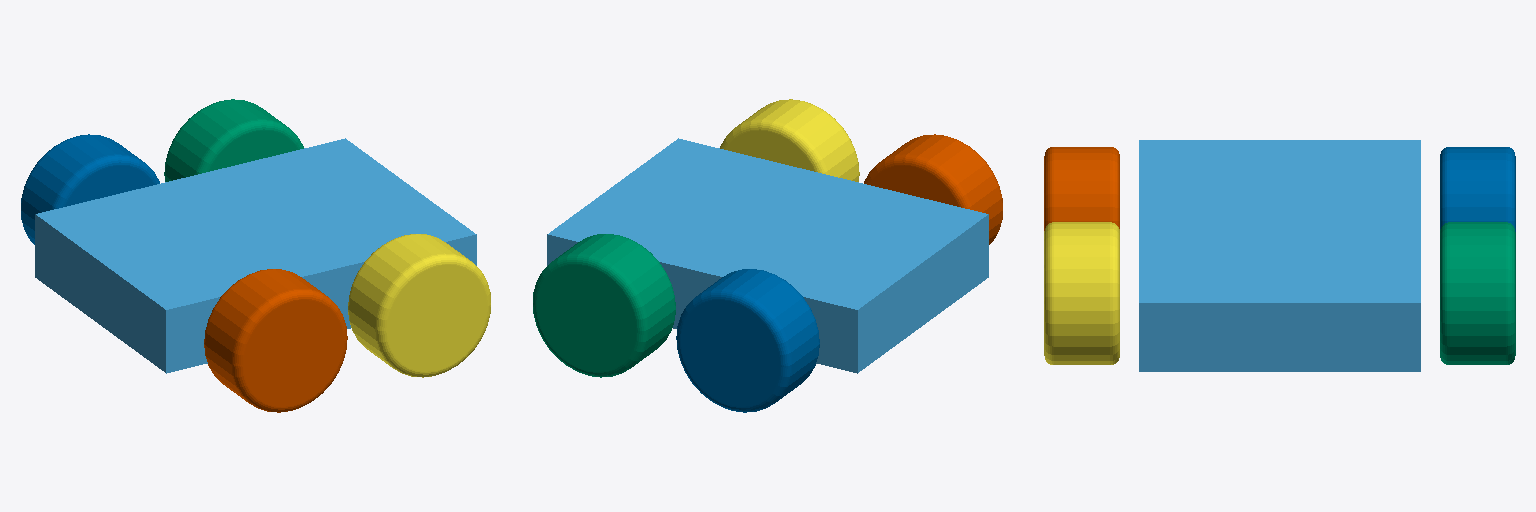
robot.urdf — cross_robot:
<?xml version="1.0" ?>
<!-- =================================================================================== -->
<!-- |    This document was autogenerated by xacro from single_rrbot.urdf.xacro        | -->
<!-- |    CROSS ROBOT URDF                               | -->
<!-- =================================================================================== -->
<robot name="cross_robot" xmlns:xacro="http://www.ros.org/wiki/xacro">

  <!-- Build your comprehensive robot -->
  <link name="base_footprint"/>
  <joint name="base_joint" type="fixed">
    <origin rpy="0 0 0" xyz="0 0 0.04"/>
    <parent link="base_footprint"/>
    <child link="base_link"/>
  </joint>

  <link name="base_link">
    <collision>
      <origin rpy="0 0 0" xyz="0 0 0"/>
      <geometry>
        <box size="0.205 0.15 0.04"/>
      </geometry>
      <color rgba="0.1 0.1 0.1 1.0"/>
    </collision>
    <visual>
      <origin rpy="0 0 0" xyz="0 0 0"/>
      <geometry>
        <box size="0.205 0.15 0.04"/>
      </geometry>
      <color rgba="0.1 0.1 0.1 1.0"/>
    </visual>
    <inertial>
      <origin rpy="0 0 0" xyz="0 0 0"/>
      <mass value="5"/>
      <inertia ixx="1.0" ixy="0.0" ixz="0.0" iyy="1.0" iyz="0.0" izz="1.0"/>
    </inertial>
  </link>

  <link name="front_left_wheel">
    <collision>
      <origin rpy="0 0 0" xyz="0 0 0"/>
      <geometry>
        <sphere radius="0.04"/>
      </geometry>
      <color rgba="0.2 0.2 0.2 1.0"/>
    </collision>
    <visual>
      <origin rpy="0 0 0" xyz="0 0 0"/>
      <geometry>
        <mesh filename="package://cross_description/meshes/wheel.stl" scale="0.0005 0.0005 0.0005"/>
      </geometry>
    </visual>
    <inertial>
      <origin rpy="0 0 0" xyz="0 0 0"/>
      <mass value="0.5"/>
      <inertia ixx="1.0" ixy="0.0" ixz="0.0" iyy="1.0" iyz="0.0" izz="1.0"/>
    </inertial>
  </link>

  <joint name="front_left_wheel_joint" type="continuous">
    <origin rpy="0 0 0" xyz="0.0475 0.105 0"/>
    <parent link="base_link"/>
    <child link="front_left_wheel"/>
    <axis xyz="0 1 0"/>
  </joint>

  <link name="front_right_wheel">
    <collision>
      <origin rpy="0 0 0" xyz="0 0 0"/>
      <geometry>
        <sphere radius="0.04"/>
      </geometry>
      <color rgba="0.2 0.2 0.2 1.0"/>
    </collision>
    <visual>
      <origin rpy="0 0 0" xyz="0 0 0"/>
      <geometry>
        <mesh filename="package://cross_description/meshes/wheel.stl" scale="0.0005 0.0005 0.0005"/>
      </geometry>
    </visual>
    <inertial>
      <origin rpy="0 0 0" xyz="0 0 0"/>
      <mass value="0.5"/>
      <inertia ixx="1.0" ixy="0.0" ixz="0.0" iyy="1.0" iyz="0.0" izz="1.0"/>
    </inertial>
  </link>

  <joint name="front_right_wheel_joint" type="continuous">
    <origin rpy="0 0 0" xyz="0.0475 -0.105 0"/>
    <parent link="base_link"/>
    <child link="front_right_wheel"/>
    <axis xyz="0 1 0"/>
  </joint>

  <link name="rear_left_wheel">
    <collision>
      <origin rpy="0 0 0" xyz="0 0 0"/>
      <geometry>
        <sphere radius="0.04"/>
      </geometry>
      <color rgba="0.2 0.2 0.2 1.0"/>
    </collision>
    <visual>
      <origin rpy="0 0 0" xyz="0 0 0"/>
      <geometry>
        <mesh filename="package://cross_description/meshes/wheel.stl" scale="0.0005 0.0005 0.0005"/>
      </geometry>
    </visual>
    <inertial>
      <origin rpy="0 0 0" xyz="0 0 0"/>
      <mass value="0.5"/>
      <inertia ixx="1.0" ixy="0.0" ixz="0.0" iyy="1.0" iyz="0.0" izz="1.0"/>
    </inertial>
  </link>

  <joint name="rear_left_wheel_joint" type="continuous">
    <origin rpy="0 0 0" xyz="-0.0475 0.105 0"/>
    <parent link="base_link"/>
    <child link="rear_left_wheel"/>
    <axis xyz="0 1 0"/>
  </joint>

  <link name="rear_right_wheel">
    <collision>
      <origin rpy="0 0 0" xyz="0 0 0"/>
      <geometry>
        <sphere radius="0.04"/>
      </geometry>
      <color rgba="0.2 0.2 0.2 1.0"/>
    </collision>
    <visual>
      <origin rpy="0 0 0" xyz="0 0 0"/>
      <geometry>
        <mesh filename="package://cross_description/meshes/wheel.stl" scale="0.0005 0.0005 0.0005"/>
      </geometry>
    </visual>
    <inertial>
      <origin rpy="0 0 0" xyz="0 0 0"/>
      <mass value="0.5"/>
      <inertia ixx="1.0" ixy="0.0" ixz="0.0" iyy="1.0" iyz="0.0" izz="1.0"/>
    </inertial>
  </link>

  <joint name="rear_right_wheel_joint" type="continuous">
    <origin rpy="0 0 0" xyz="-0.0475 -0.105 0"/>
    <parent link="base_link"/>
    <child link="rear_right_wheel"/>
    <axis xyz="0 1 0"/>
  </joint>

</robot>

--- Render facts (derived) ---
3 views of the same robot in one strip: view 1: azimuth 30°, elevation 25°; view 2: azimuth 150°, elevation 25°; view 3: azimuth 270°, elevation 25° (orthographic).
Robot: cross_robot — 6 links, 5 joints (4 continuous, 1 fixed); root link base_footprint; default pose: every joint at zero.
Links seen in each view (by area): view 1: base_link, rear_right_wheel, front_right_wheel, rear_left_wheel, front_left_wheel; view 2: base_link, rear_left_wheel, front_left_wheel, rear_right_wheel, front_right_wheel; view 3: base_link, front_right_wheel, front_left_wheel, rear_left_wheel, rear_right_wheel.
Link boxes in pixels (x1,y1,x2,y2): base_link: [35, 138, 476, 373]; rear_right_wheel: [204, 269, 347, 412]; front_right_wheel: [348, 234, 490, 377]; rear_left_wheel: [21, 134, 159, 244]; front_left_wheel: [164, 99, 303, 181]; base_link: [547, 138, 988, 373]; rear_left_wheel: [676, 269, 819, 412]; front_left_wheel: [533, 234, 675, 377]; rear_right_wheel: [864, 134, 1002, 244]; front_right_wheel: [720, 99, 859, 181]; base_link: [1139, 140, 1420, 371]; front_right_wheel: [1044, 222, 1119, 364]; front_left_wheel: [1440, 222, 1515, 364]; rear_left_wheel: [1440, 147, 1515, 231]; rear_right_wheel: [1044, 147, 1119, 230].
Bounding box of the posed robot: 0.205 × 0.25 × 0.076 m (x, y, z).
4 mesh visuals loaded from 1 distinct referenced files (1 binary STL).